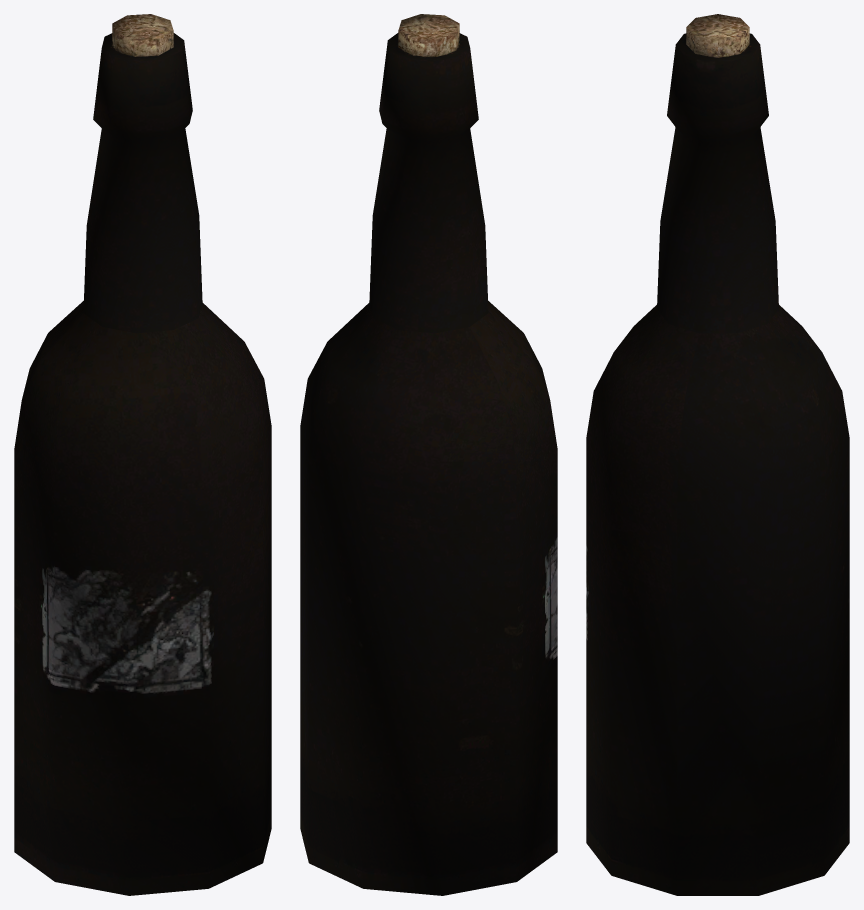
File: wine01_amfp.dae
3 views of the same model, side by side, from view 1: azimuth 30°, elevation 25°; view 2: azimuth 150°, elevation 25°; view 3: azimuth 270°, elevation 25° (orthographic).
Parts seen in each view (by area): view 1: winebottle; view 2: winebottle; view 3: winebottle.
Boxes of the visible parts, x1,y1,x2,y2 form: winebottle: (14,14,271,895); winebottle: (300,14,557,895); winebottle: (586,14,849,895).
Size of the model in its own units: 0.0964 by 0.3461 by 0.1013.
